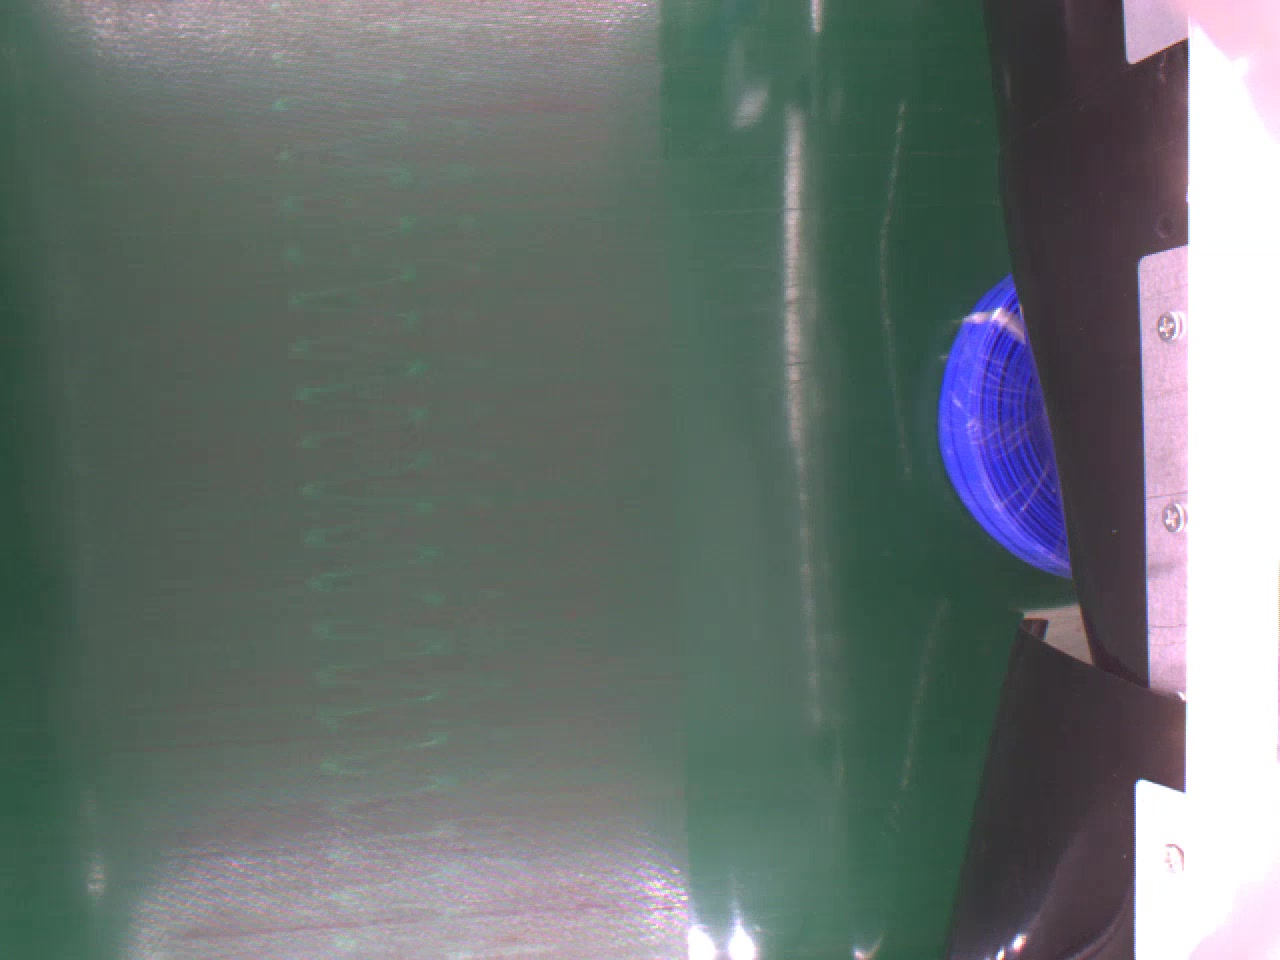blue: (936, 278, 1069, 581)
